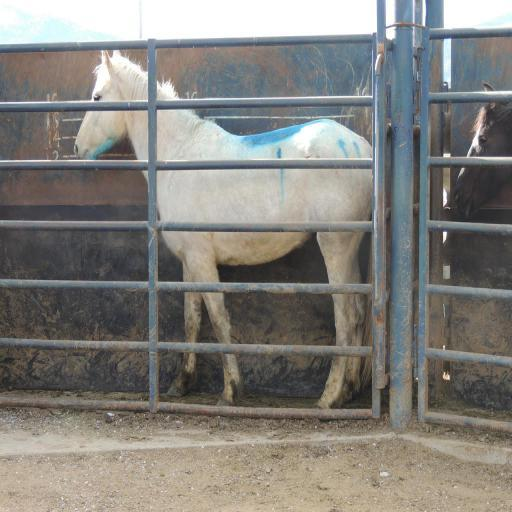Horse: (69, 46, 376, 418), (452, 80, 512, 220)
